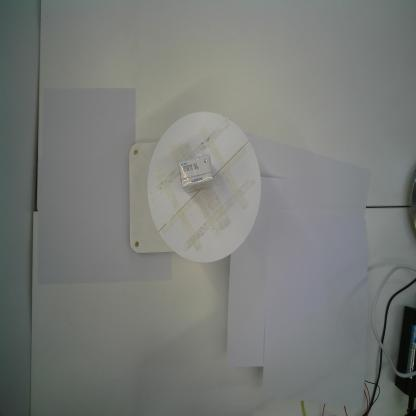Milk: (178, 154, 214, 194)
